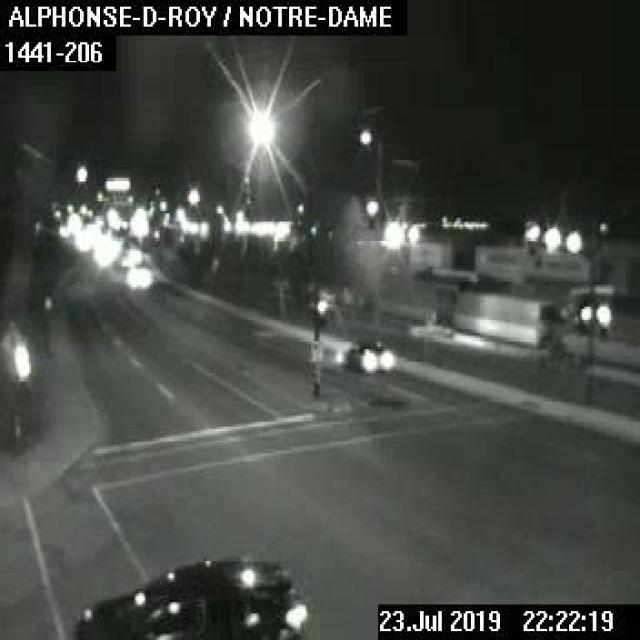vehicle: (71, 556, 309, 638), (336, 338, 391, 371), (572, 298, 616, 336)
